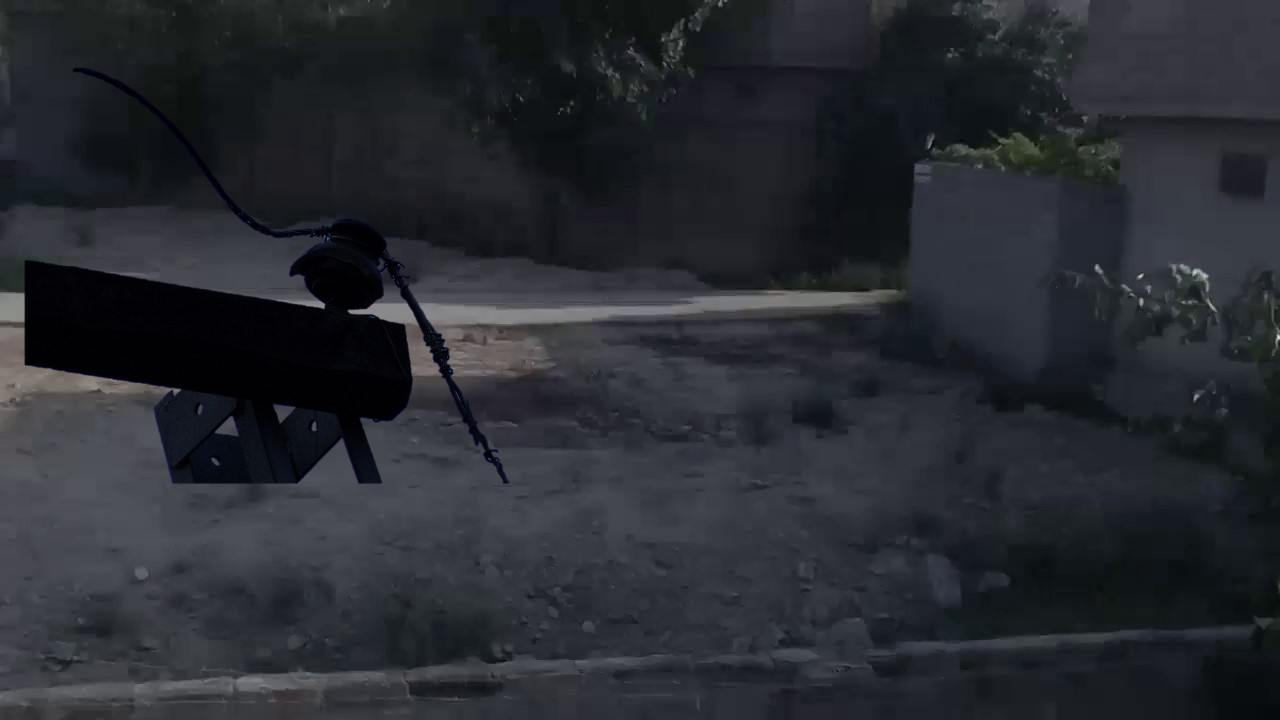defect_pin: (289, 217, 392, 308)
